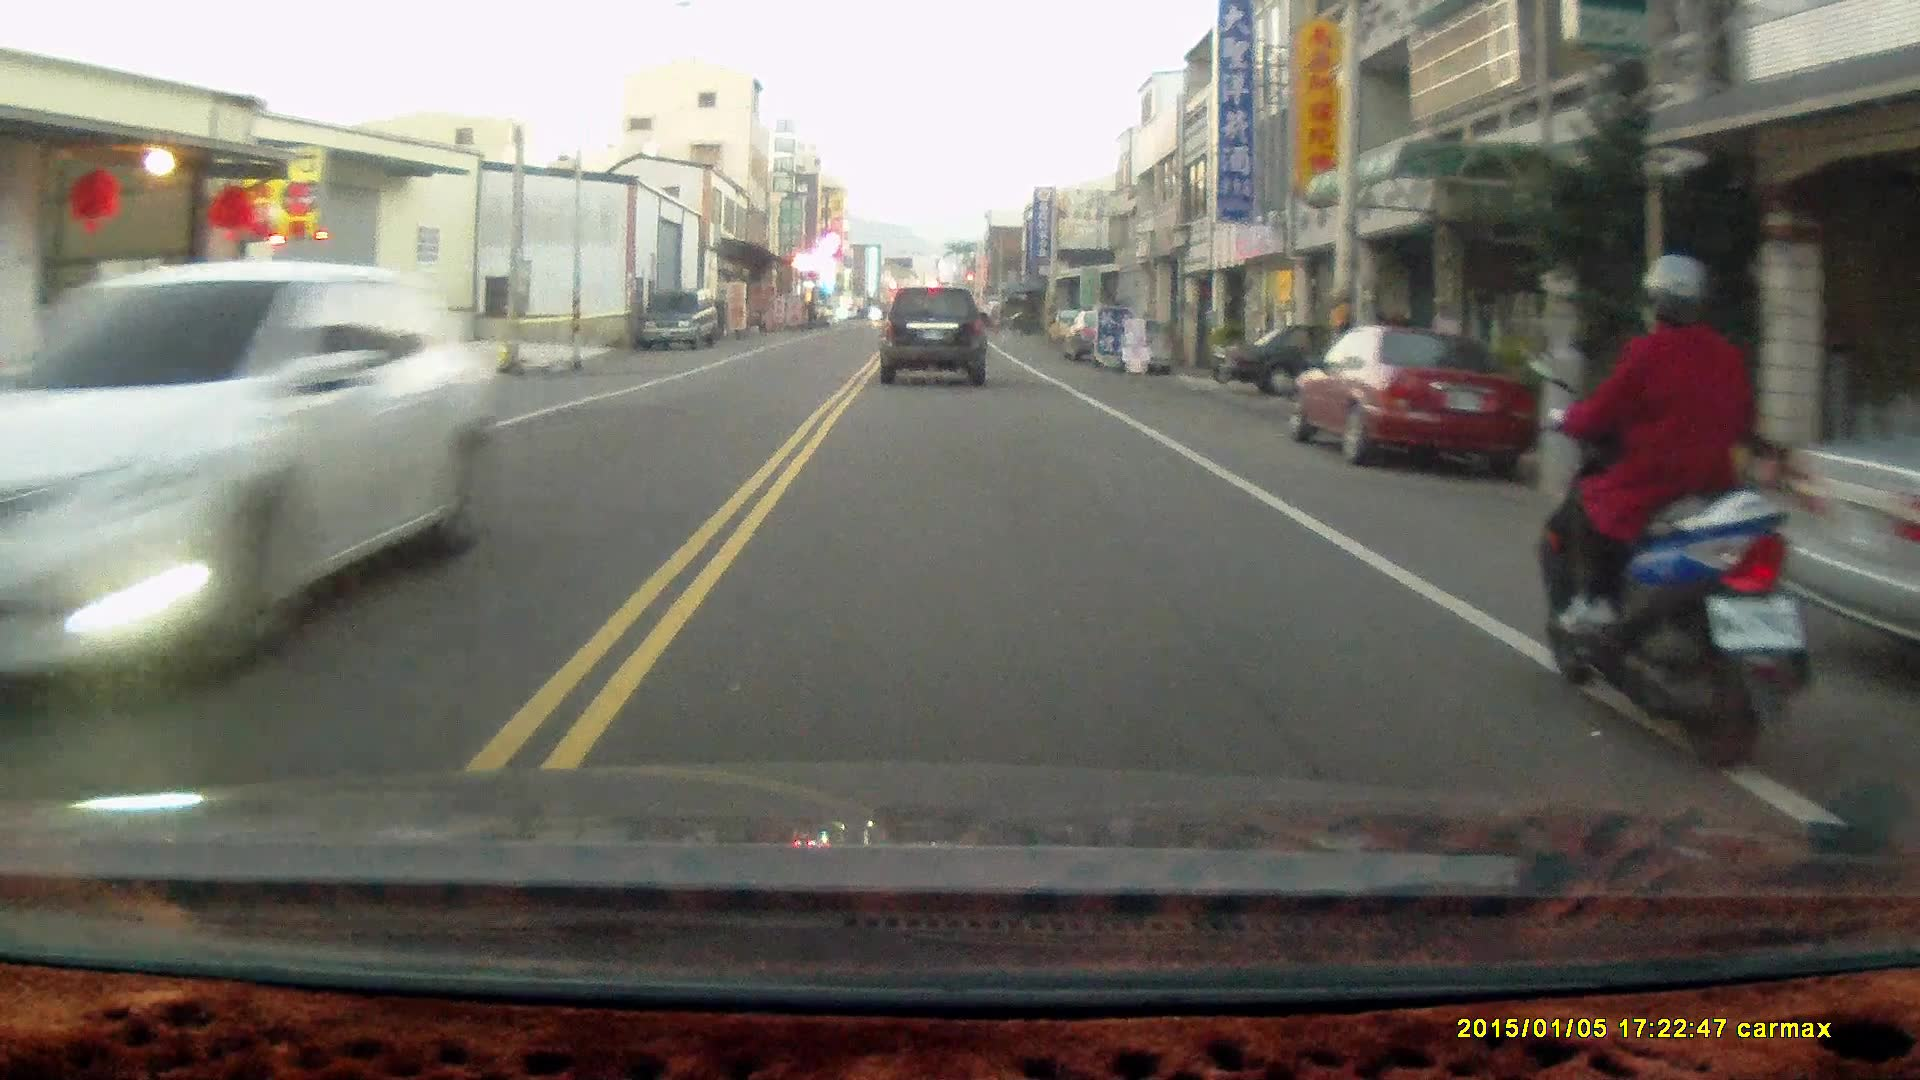rider: (1534, 243, 1820, 781)
vehicle: (2, 259, 500, 704), (1766, 340, 1920, 691), (1295, 315, 1540, 480), (1214, 323, 1427, 399), (881, 278, 990, 384), (640, 288, 721, 352)
